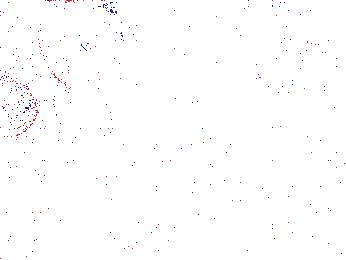moon jellyfish: (37, 2, 122, 94), (254, 38, 341, 81), (1, 71, 39, 139), (1, 11, 31, 69)
